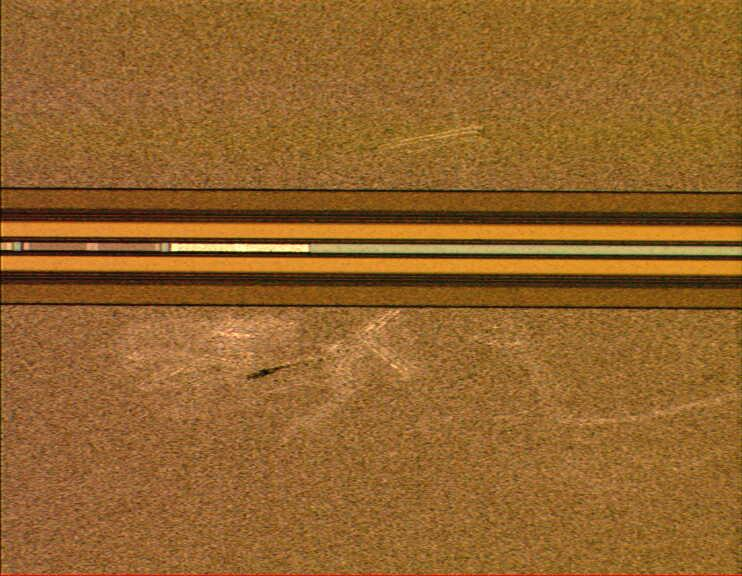SCRATCH: (89, 117, 742, 454)
